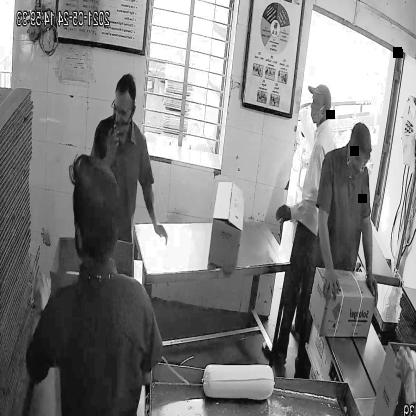goggles: (110, 99, 138, 118), (350, 149, 372, 169)
